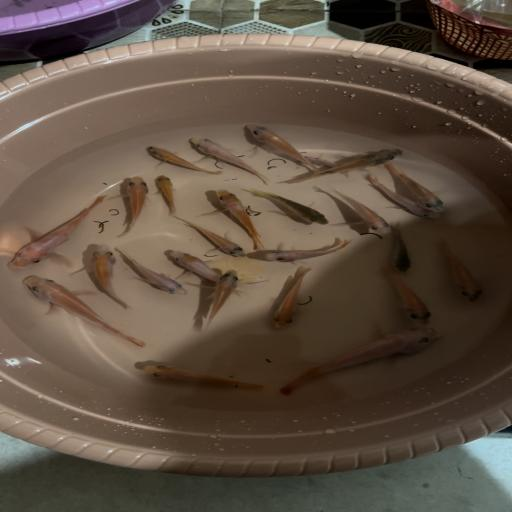nila: (279, 326, 449, 398), (19, 271, 148, 349), (5, 194, 108, 270), (123, 359, 269, 398), (284, 146, 404, 186), (78, 242, 148, 310), (254, 264, 319, 333), (318, 184, 399, 235), (188, 135, 271, 184), (245, 123, 321, 175), (382, 159, 451, 216), (114, 246, 189, 298), (434, 239, 491, 306), (210, 189, 272, 249), (250, 186, 336, 229), (374, 271, 438, 325), (358, 174, 432, 220), (198, 267, 249, 332), (140, 142, 226, 179), (174, 216, 248, 258), (260, 235, 355, 264), (114, 174, 154, 237), (377, 222, 423, 275), (165, 246, 231, 281), (150, 172, 184, 217), (300, 154, 347, 178)
